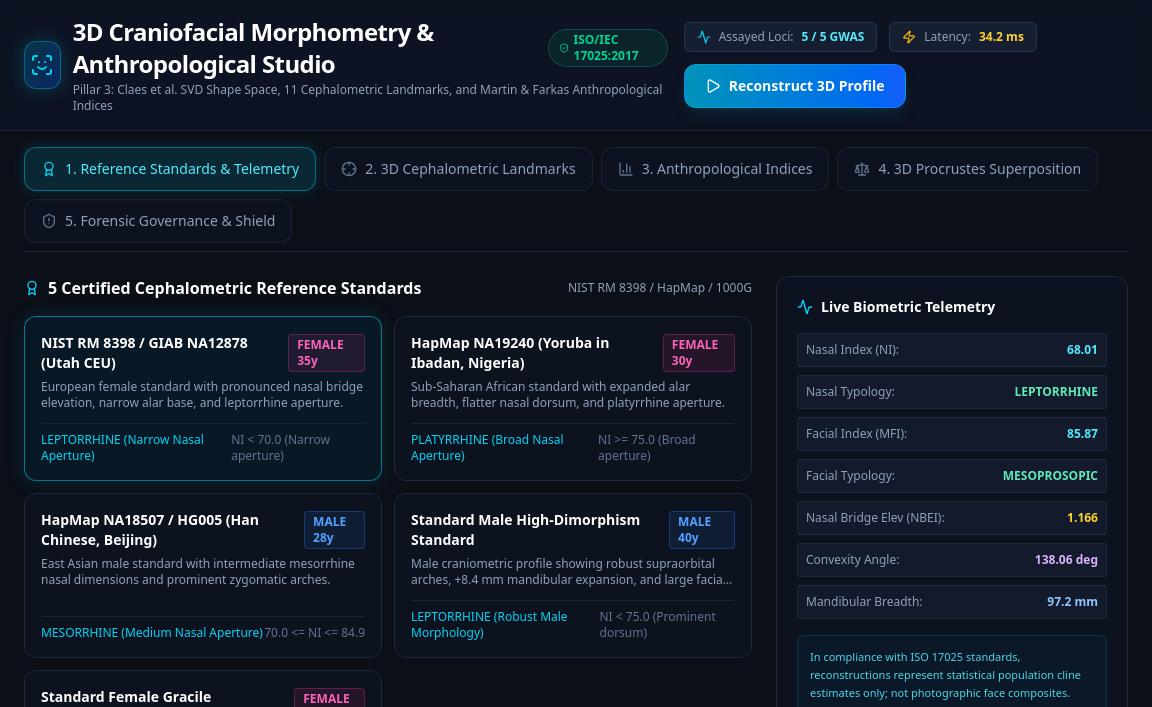
Test: Subsystem 16: 3D Craniofacial Morphology Studio & Cephalometric Superposition › switches projection views between calipers, frontal, and lateral
Step 1. Click the button "2. 3D Cephalometric Landmarks" → click(458, 169), box [324,147,593,191]
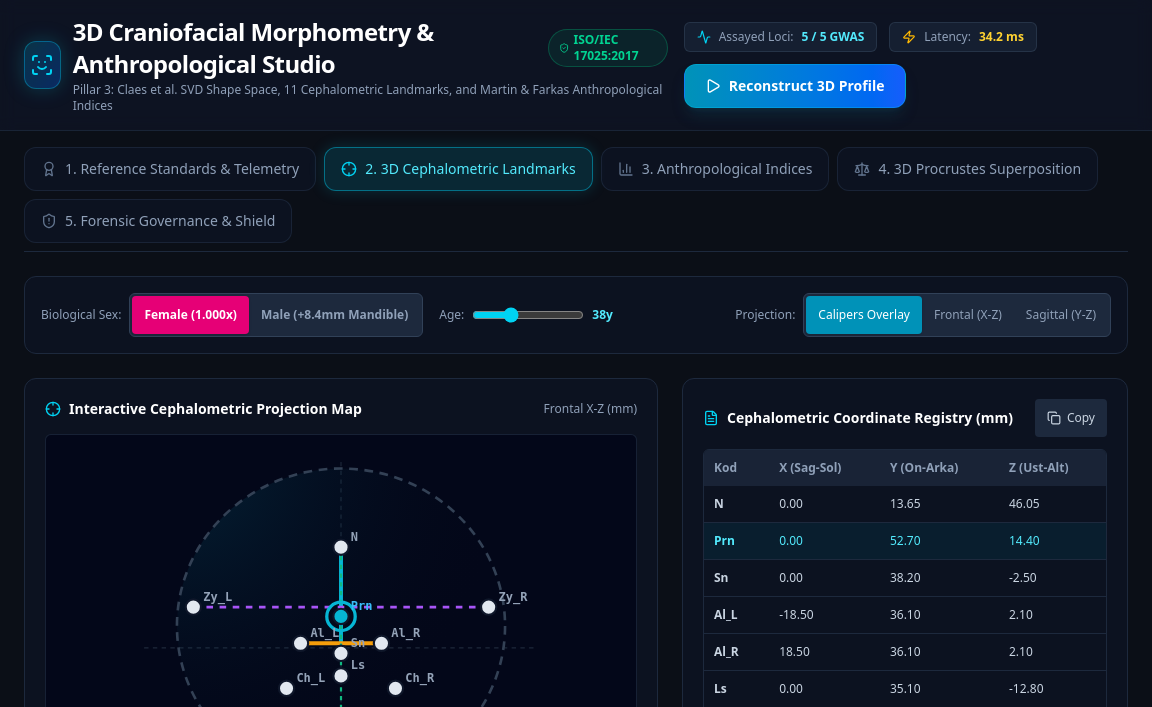
Step 2. Click the button "Frontal (X-Z)" → click(968, 315), box [922,296,1014,334]
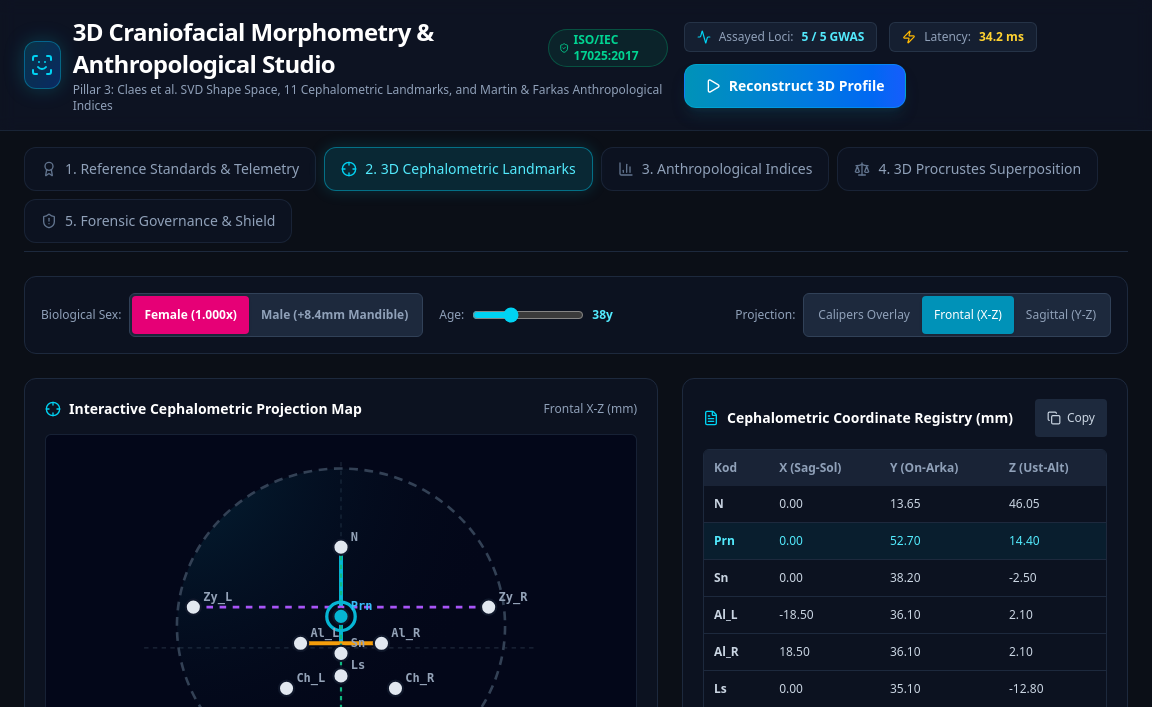
Result: the text "Frontal X-Z (mm)" is shown at [544,401,637,417]
Step 3. Click the button "Sagittal (Y-Z)" → click(1061, 315), box [1014,296,1108,334]
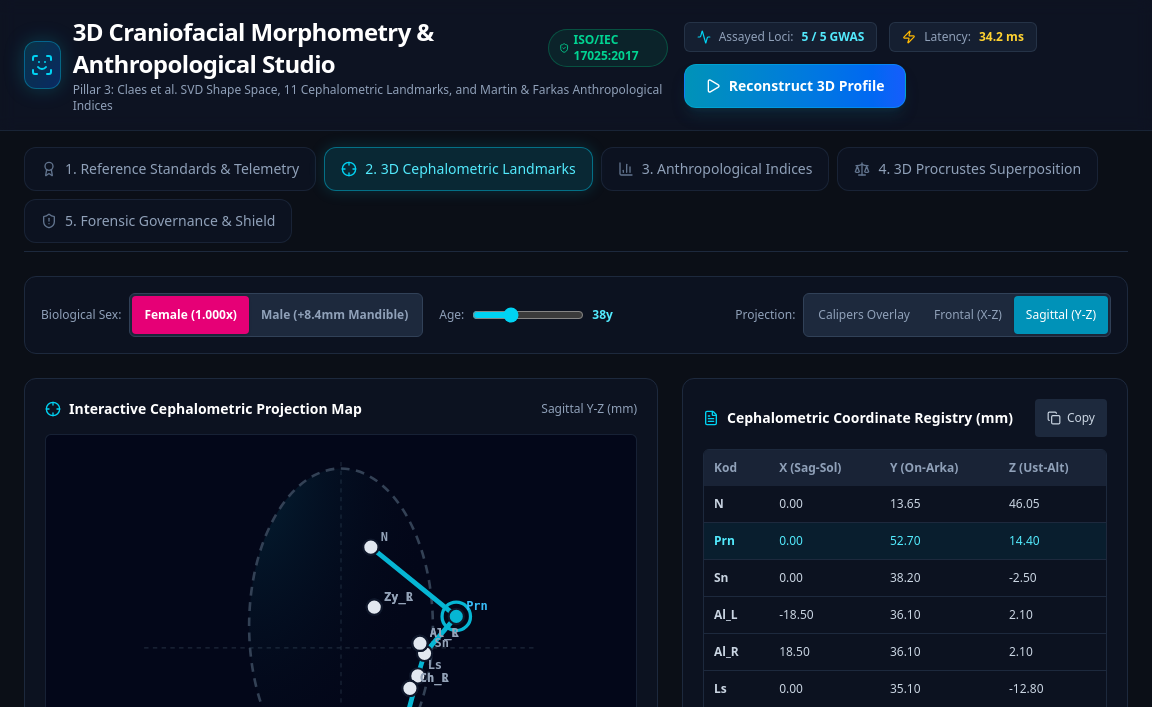
Result: the text "Sagittal Y-Z (mm)" is shown at [541,401,637,417]
